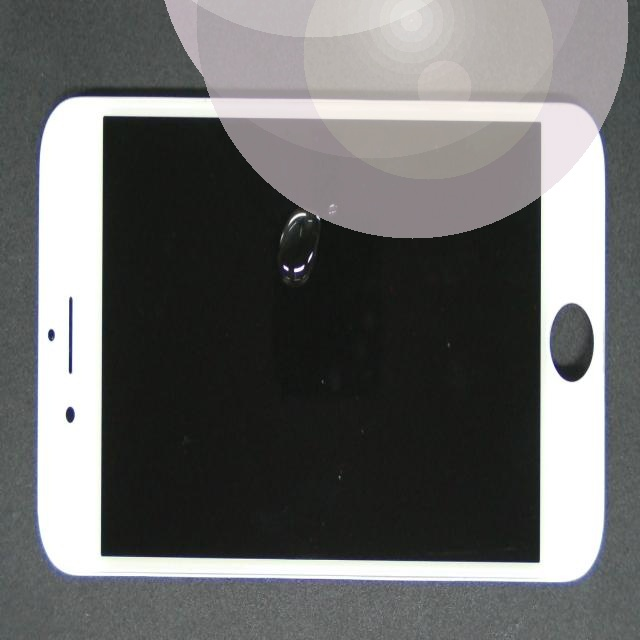oil: (148, 146, 481, 348)
